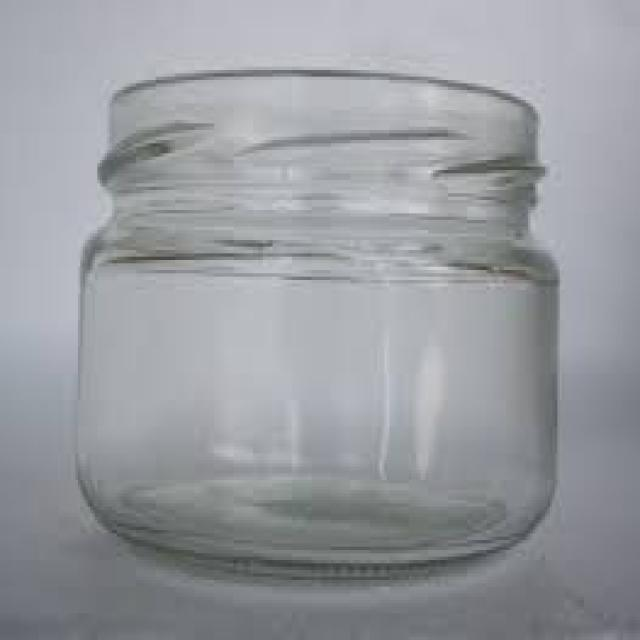glass: (73, 70, 555, 570)
